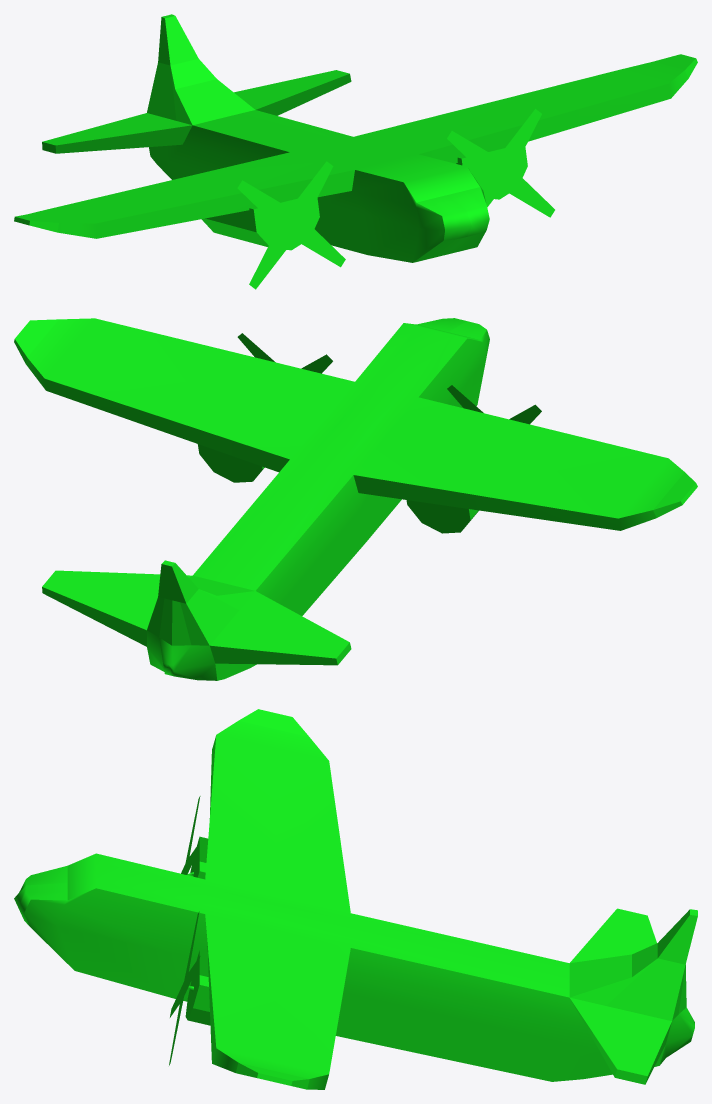
File: avion1.glb
3 views of the same model, one above another, from view 1: azimuth 30°, elevation 25°; view 2: azimuth 150°, elevation 25°; view 3: azimuth 270°, elevation 25° (orthographic). The views are drawn at different scales.
Parts seen in each view (by area): view 1: Object_3; view 2: Object_3; view 3: Object_3.
Boxes of the visible parts, x1,y1,x2,y2 form: Object_3: (14, 14, 697, 289); Object_3: (14, 318, 697, 680); Object_3: (14, 709, 697, 1089).
Size of the model in its own units: 26.1 by 6.45 by 20.66.
